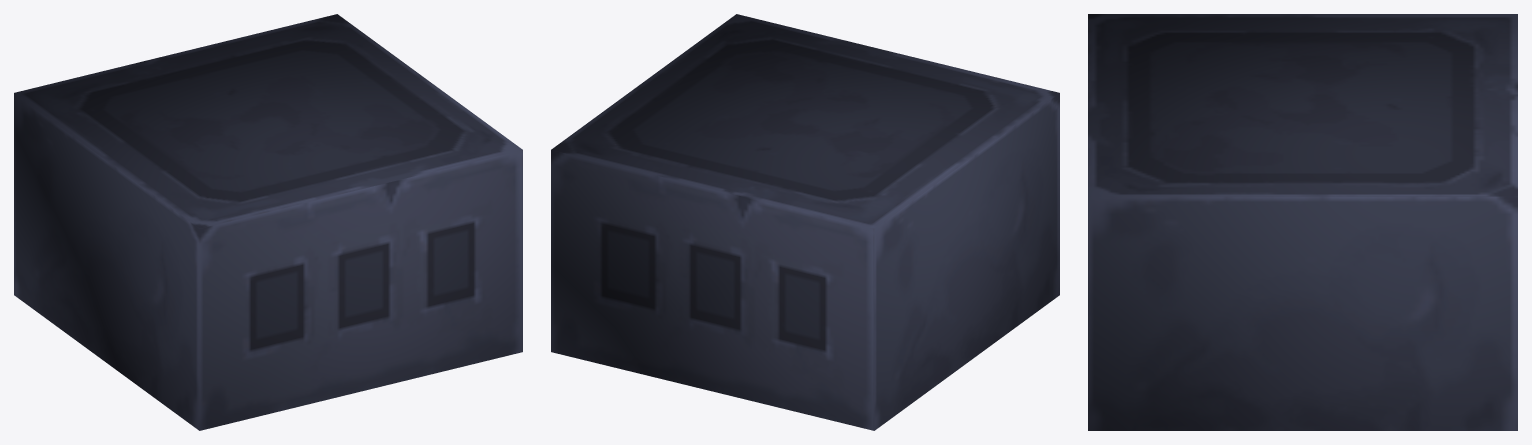
Rendered from sn_jiguan_zhuzi_001.FBX.
3 views of the same model, side by side, from view 1: azimuth 30°, elevation 25°; view 2: azimuth 150°, elevation 25°; view 3: azimuth 270°, elevation 25° (orthographic). The views are drawn at different scales.
Parts seen in each view (by area): view 1: sn_jiguan_zhuzi_001; view 2: sn_jiguan_zhuzi_001; view 3: sn_jiguan_zhuzi_001.
Part boxes in pixels (x1,y1,x2,y2): sn_jiguan_zhuzi_001: [14, 14, 522, 430]; sn_jiguan_zhuzi_001: [551, 14, 1059, 430]; sn_jiguan_zhuzi_001: [1088, 14, 1517, 430].
Size of the model in its own units: 179 by 107 by 178.
